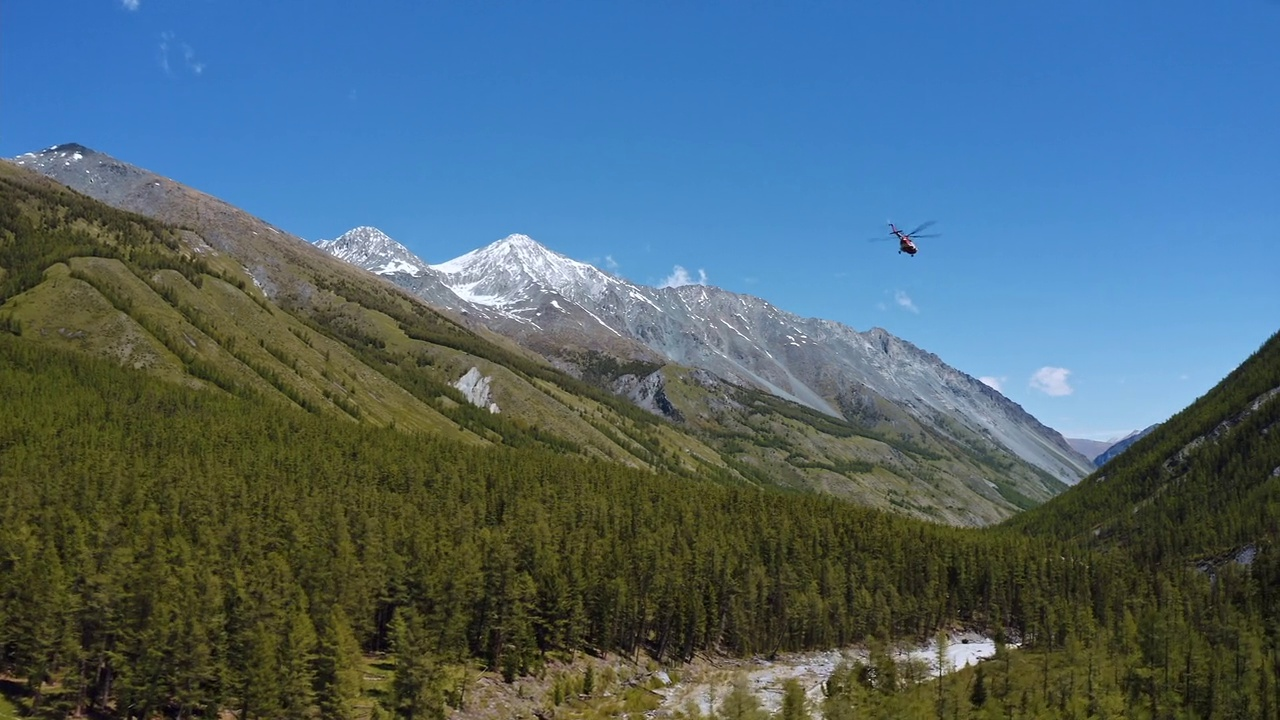heli: (884, 221, 940, 258)
